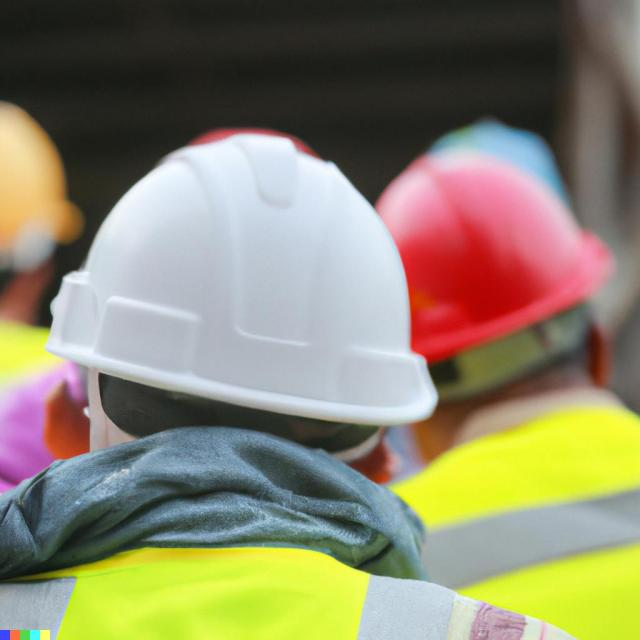Reflective-Jacket: (1, 534, 591, 638), (397, 402, 639, 640)
Safety-Helmet: (46, 115, 432, 442), (362, 119, 622, 368), (0, 83, 85, 259)
